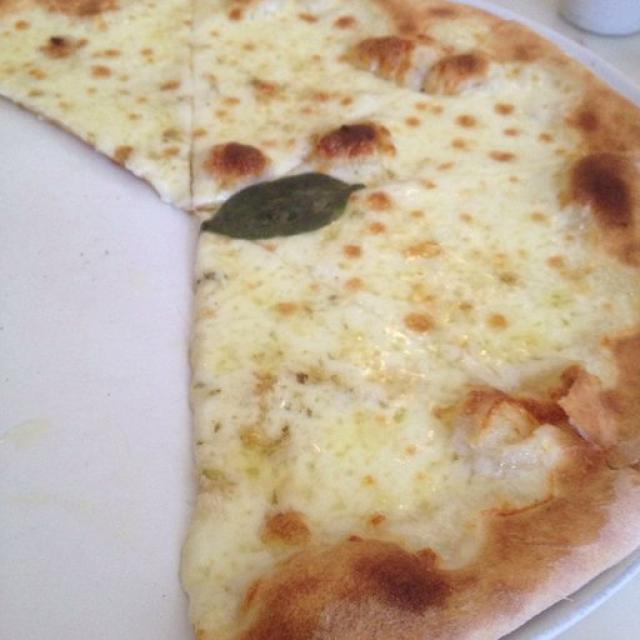Basil: (197, 170, 367, 237)
